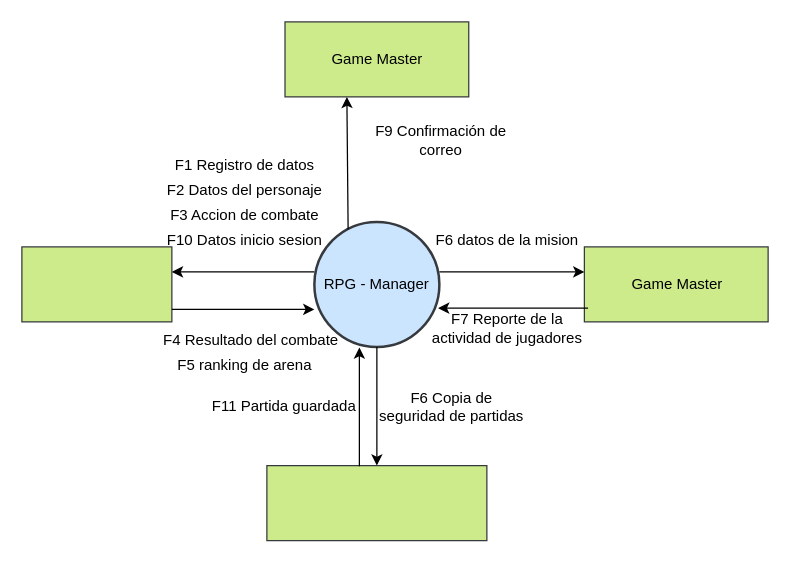
This 790x563 diagram has some shape labels left out. The shapes that lost their labels are listed below. From the top down, each one's centre as x and y in pixels, then its label:
the point at 96,284: Jugador
the point at 376,502: Servicio de respaldo en la nube
